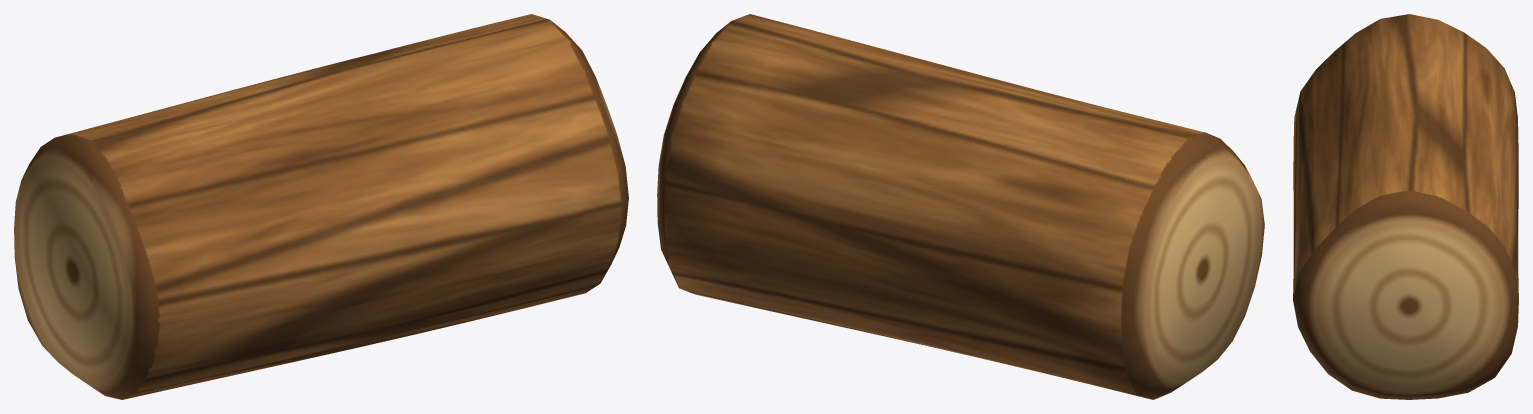
The model's file is log_whole.glb.
The picture shows the model from 3 angles, left to right: view 1: azimuth 30°, elevation 25°; view 2: azimuth 150°, elevation 25°; view 3: azimuth 270°, elevation 25°; orthographic projection. The views are drawn at different scales.
Parts seen in each view (by area): view 1: log_whole; view 2: log_whole; view 3: log_whole.
Boxes of the visible parts, x1,y1,x2,y2 form: log_whole: (14, 14, 628, 399); log_whole: (657, 14, 1264, 399); log_whole: (1293, 14, 1518, 399).
Size of the model in its own units: 0.45 by 0.2262 by 0.2211.
Materials: 1 (1 with a texture image).
